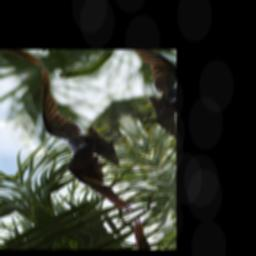Crow: (8, 56, 161, 225)
